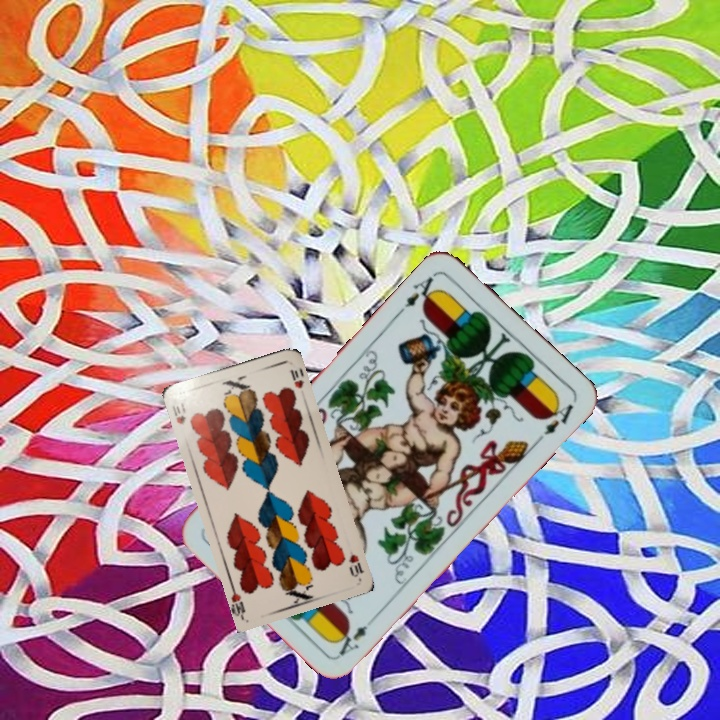EA: (331, 611, 379, 659), (400, 270, 441, 310)
H10: (345, 550, 367, 580), (168, 399, 189, 427)
